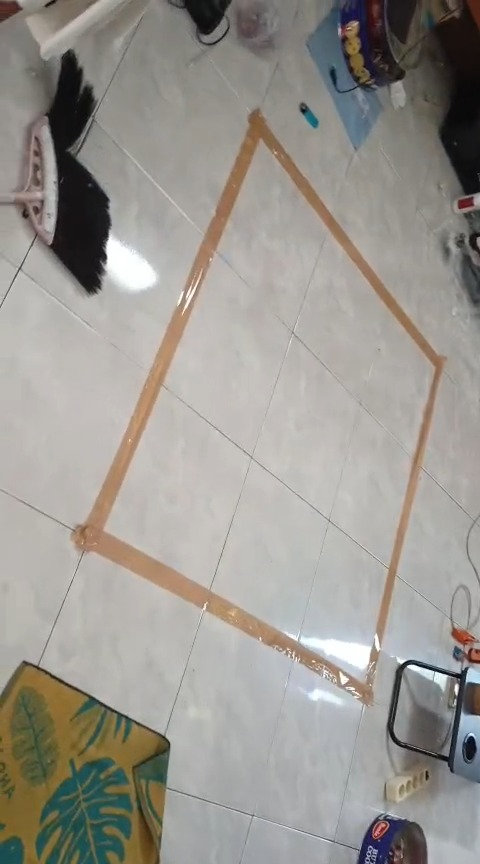floor marking: (73, 110, 444, 703)
